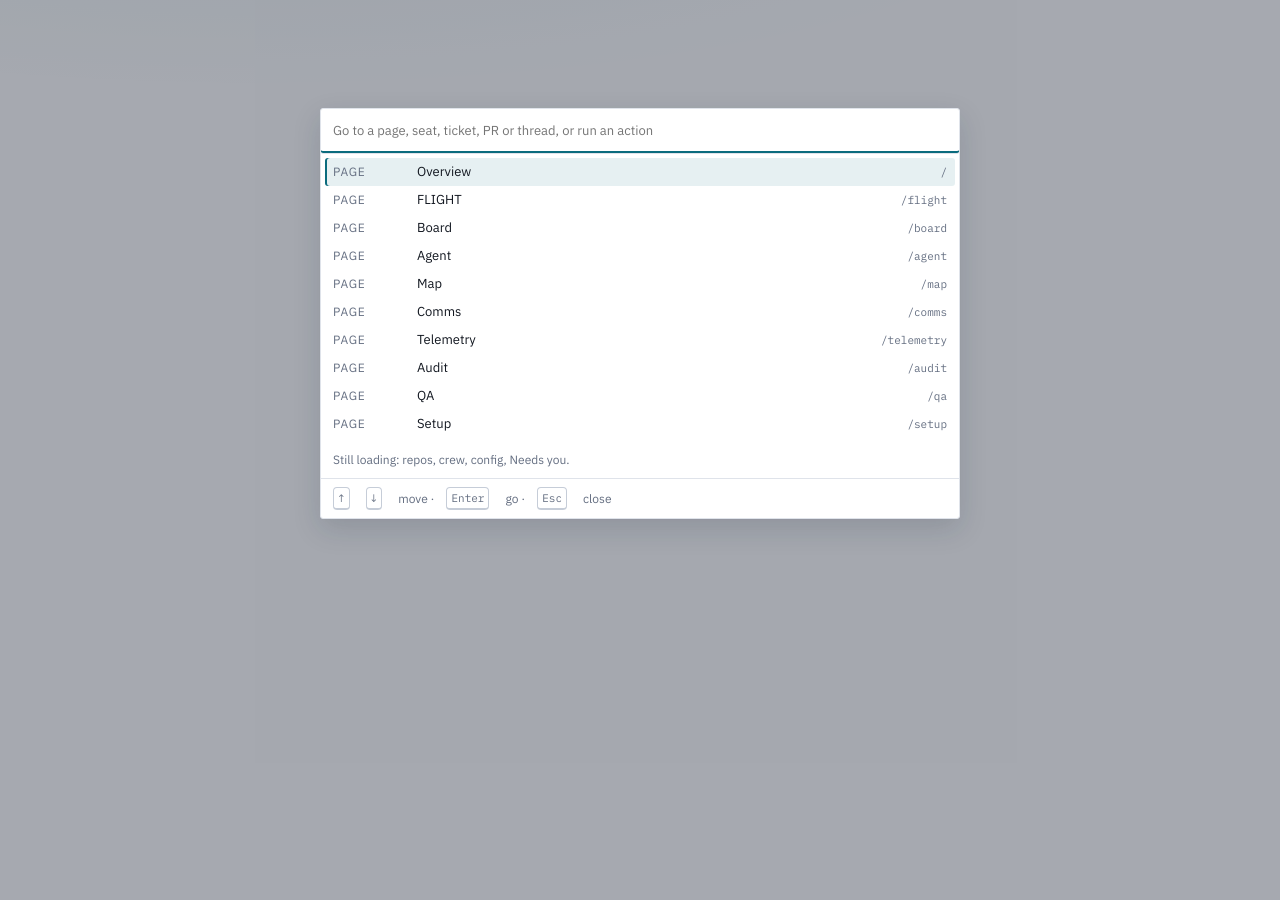
Test: CommandPalette › names what is still loading, and does not say nothing matches
Type "zzzqq" into the dropdown.
click(640, 132); type("zzzqq")  # box [321, 109, 959, 154]
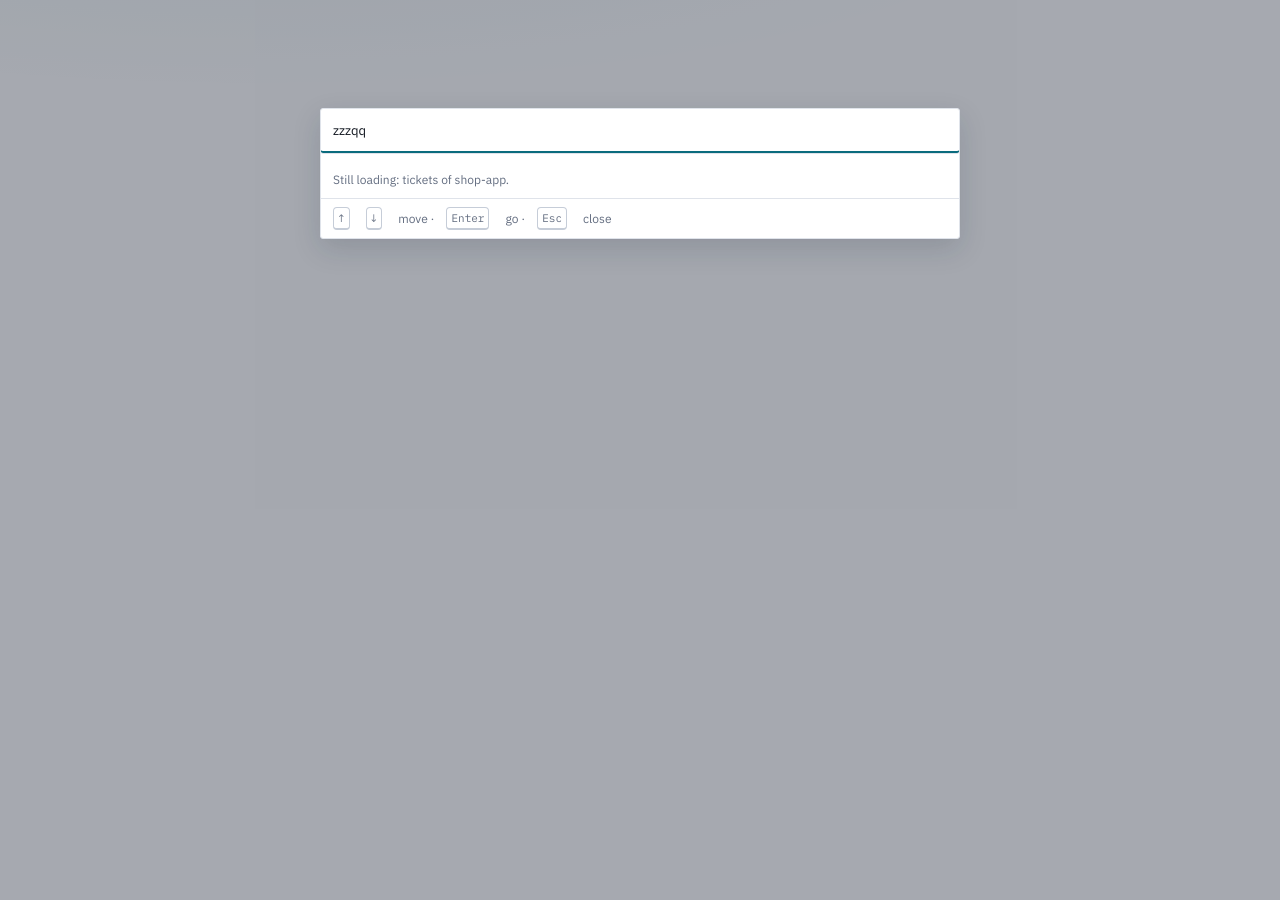
Expected: the message reads "Still loading: tickets of shop-app.", [333, 172, 509, 187]
